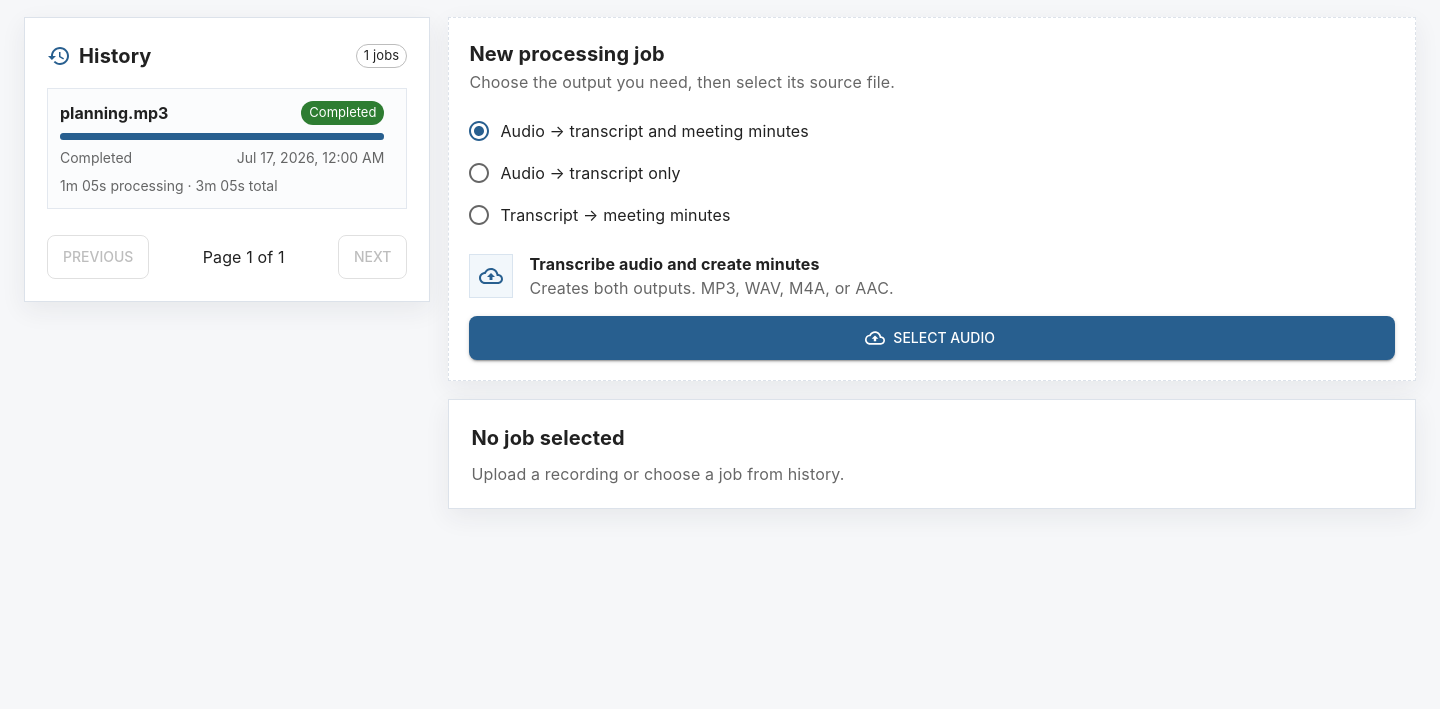
Scenario: MeetingMind workflow › shows unavailable result messaging when completed artifacts cannot be loaded
Click the button "planning.mp3". click: [114, 113]
box: [60, 101, 384, 196]
(page scrolled)
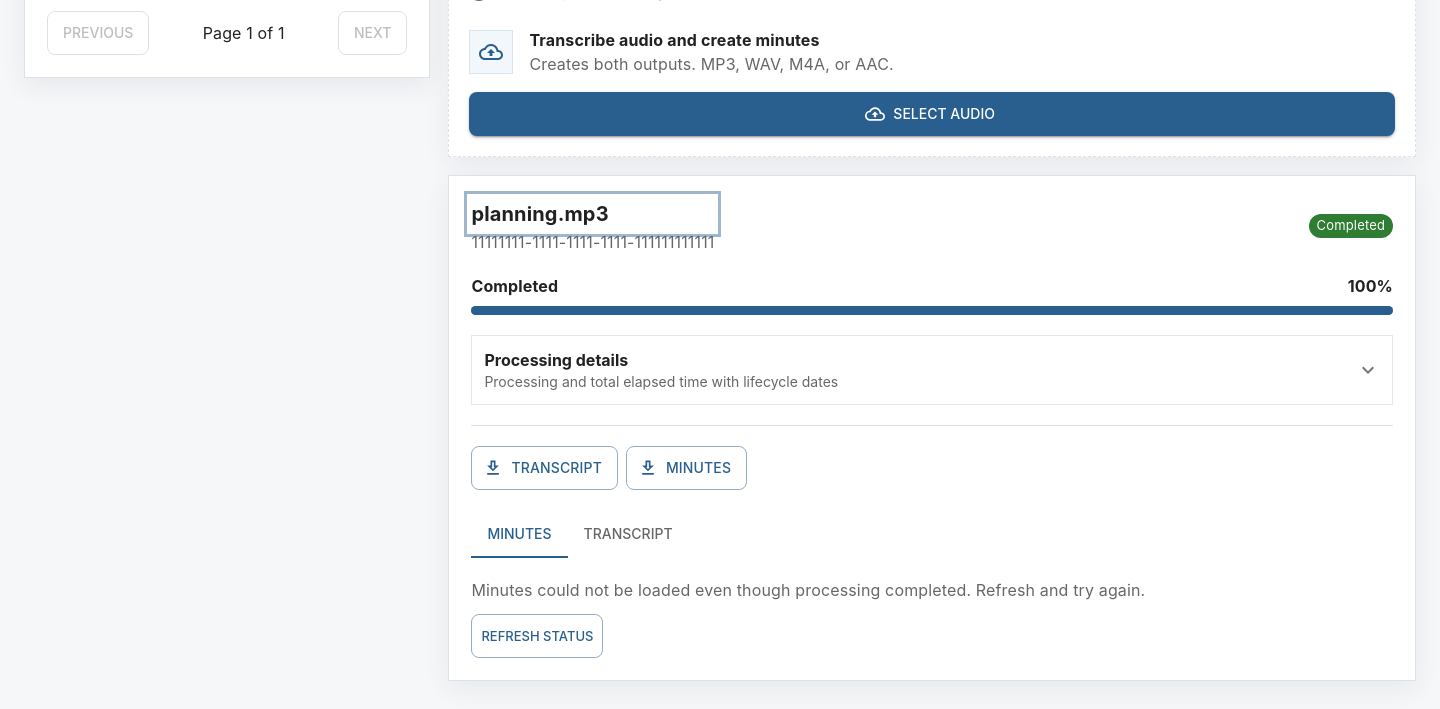
Check: the text "Minutes could not be loaded even though processing completed. Refresh and try again." is shown, box [471, 580, 1145, 600]
Click the tab "Transcript". click: [628, 534]
box: [568, 510, 689, 558]
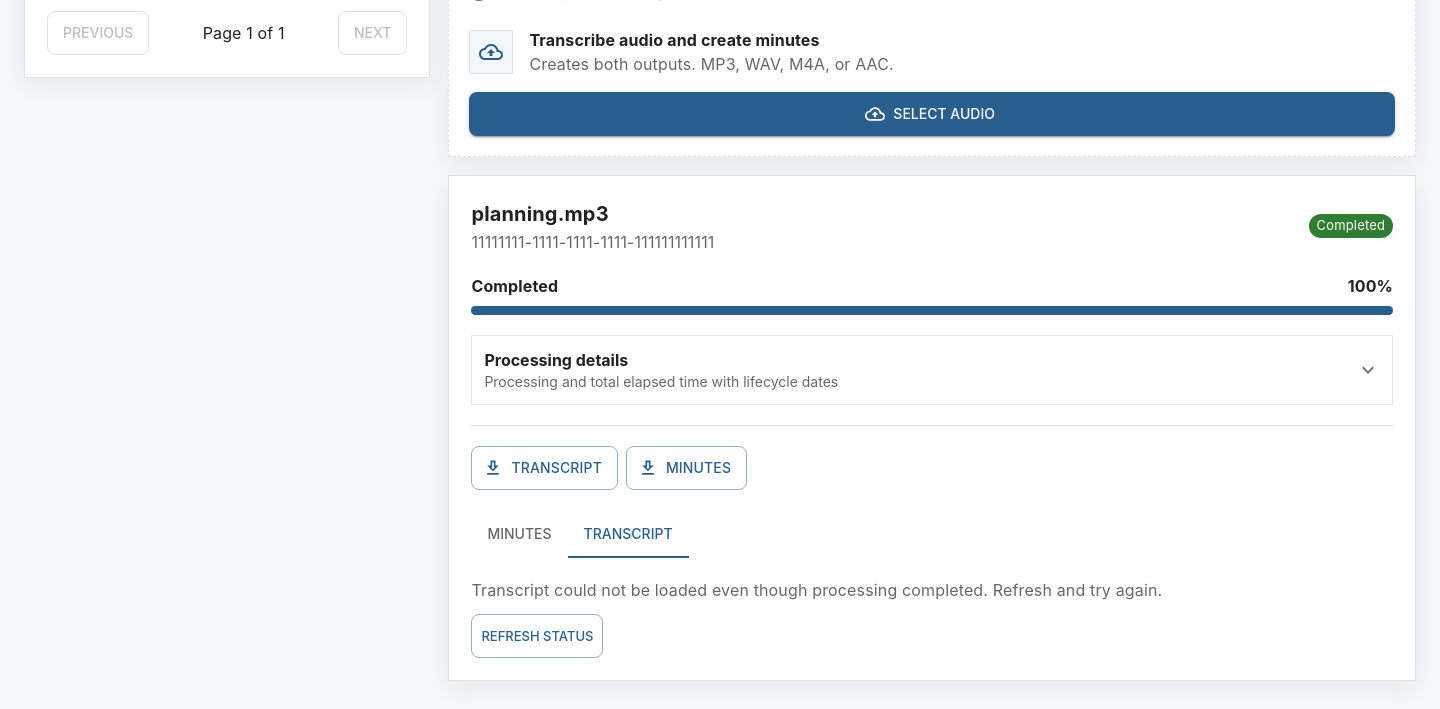
Check: the text "Transcript could not be loaded even though processing completed. Refresh and try again." is shown, box [471, 580, 1162, 600]
